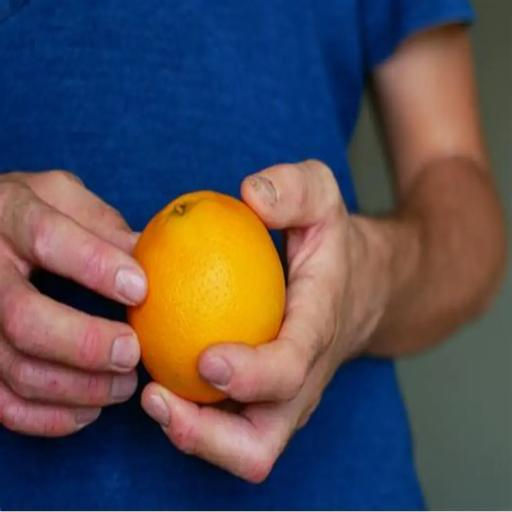orange: (128, 191, 285, 403)
